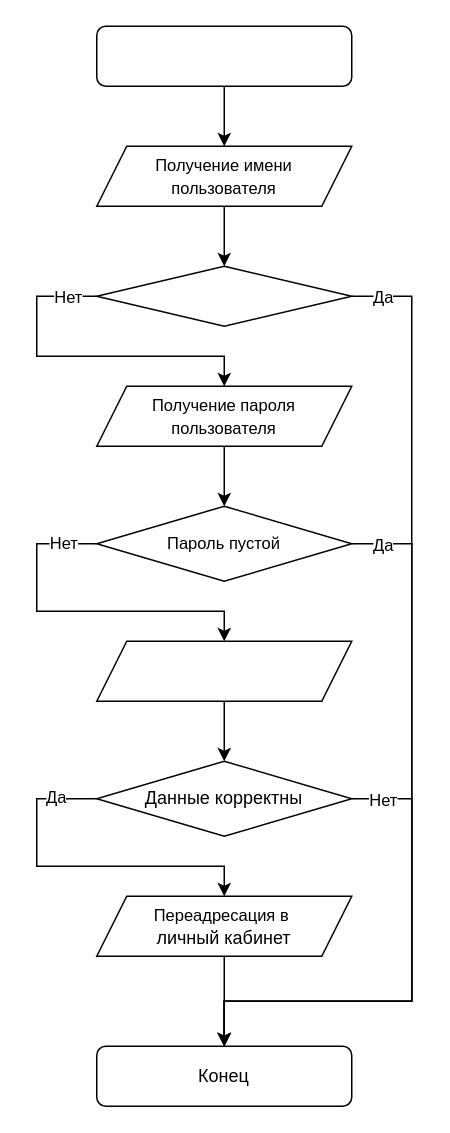
Image size: 450x1133. Some labels were removed from this diagram. The shapes that lost their labels are listed below. From the top down, each one's box as (x1, y1, x2, y2) in pixels, then its label:
(95, 25, 352, 86): Начало
(95, 265, 352, 326): Имя пустое
(95, 640, 352, 701): Отправка запроса на проверку пользователя
